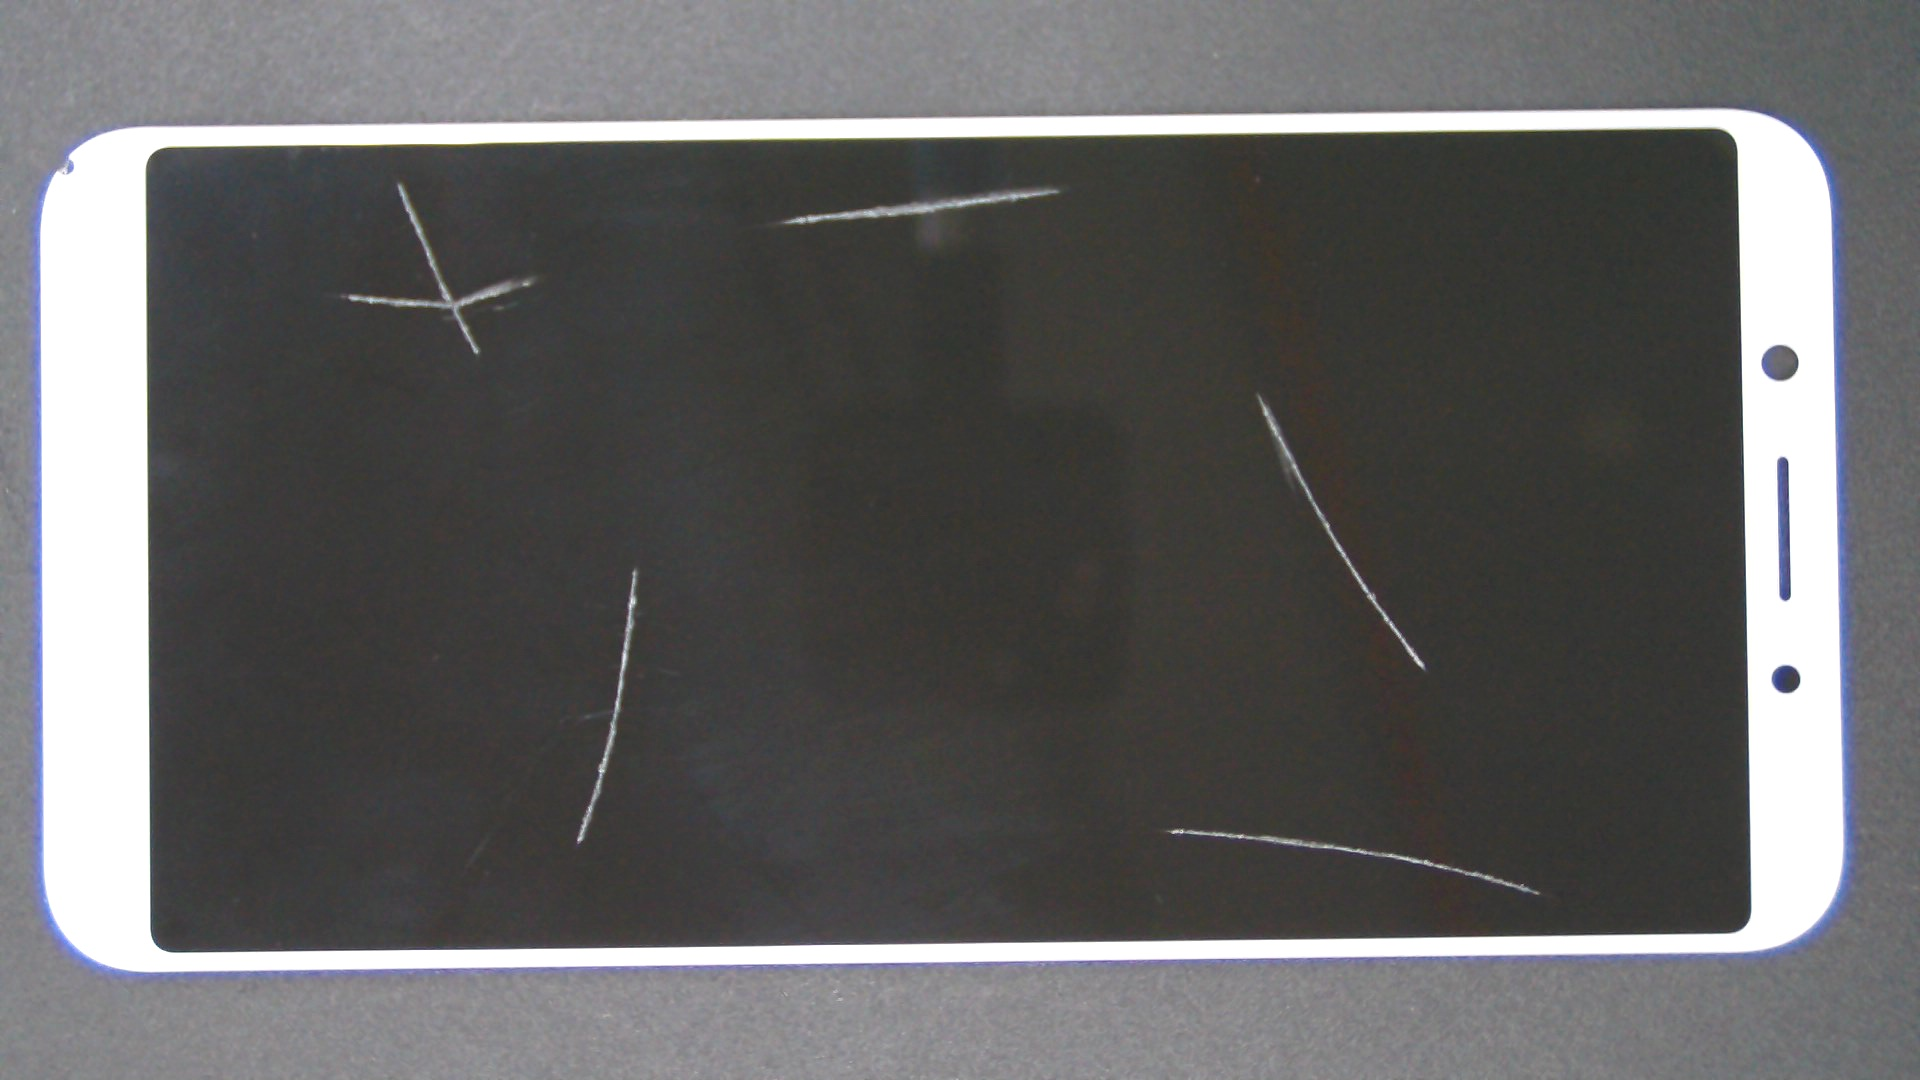oil: (588, 413, 1760, 1080), (629, 195, 1887, 587), (316, 284, 951, 851), (521, 92, 1560, 280), (199, 90, 596, 273)
